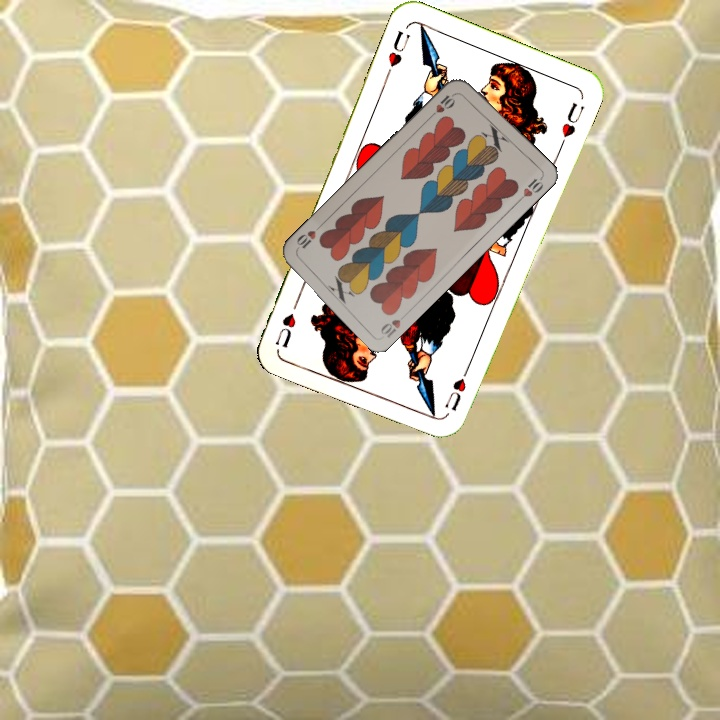H10: (427, 88, 460, 120), (376, 315, 403, 340)
HU: (381, 26, 413, 79), (441, 374, 469, 414)
